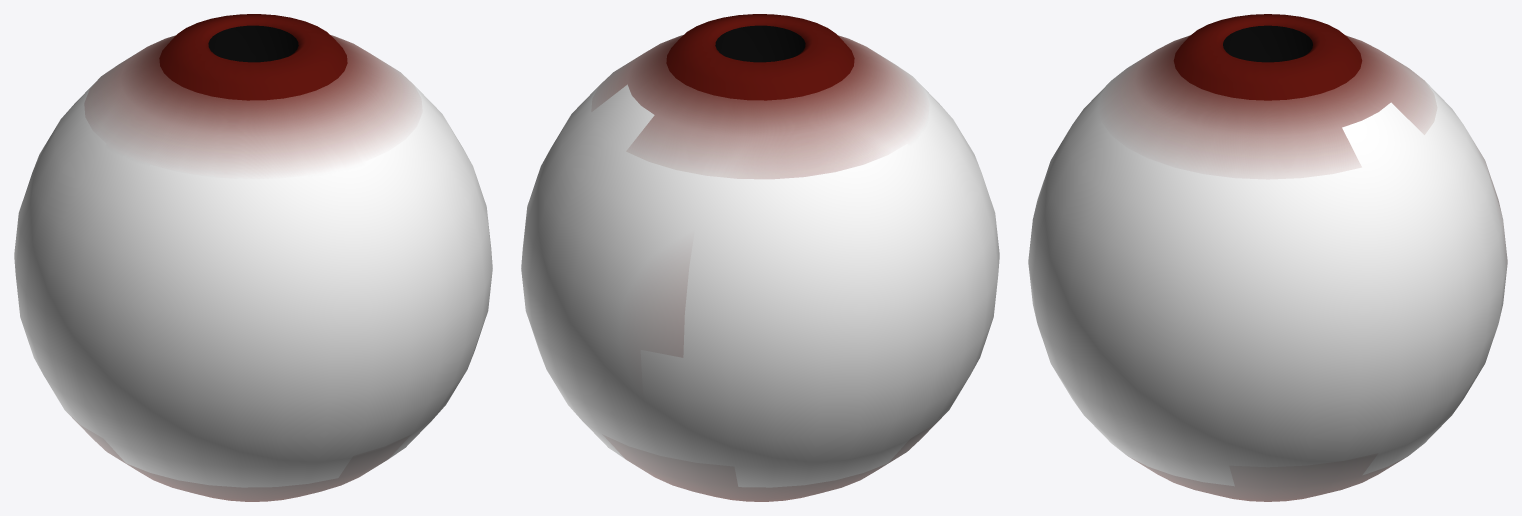
The model's file is eye_enemy.fbx.
The picture shows the model from 3 angles, left to right: view 1: azimuth 30°, elevation 25°; view 2: azimuth 150°, elevation 25°; view 3: azimuth 270°, elevation 25°; orthographic projection.
Parts seen in each view (by area): view 1: Sphere; view 2: Sphere; view 3: Sphere.
Part boxes in pixels (x1,y1,x2,y2): Sphere: [14, 14, 492, 501]; Sphere: [521, 14, 999, 501]; Sphere: [1028, 14, 1507, 501].
Bounding box in the file's own units: 199 × 201 × 199.
Materials: 1 (1 with a texture image).
